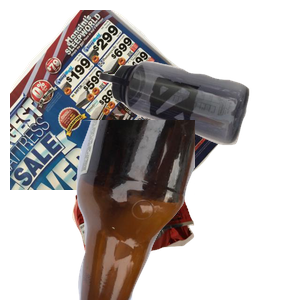glass: (60, 120, 300, 300)
paper: (10, 10, 240, 190)
plastic: (97, 59, 300, 197)
trash: (70, 162, 257, 300)
